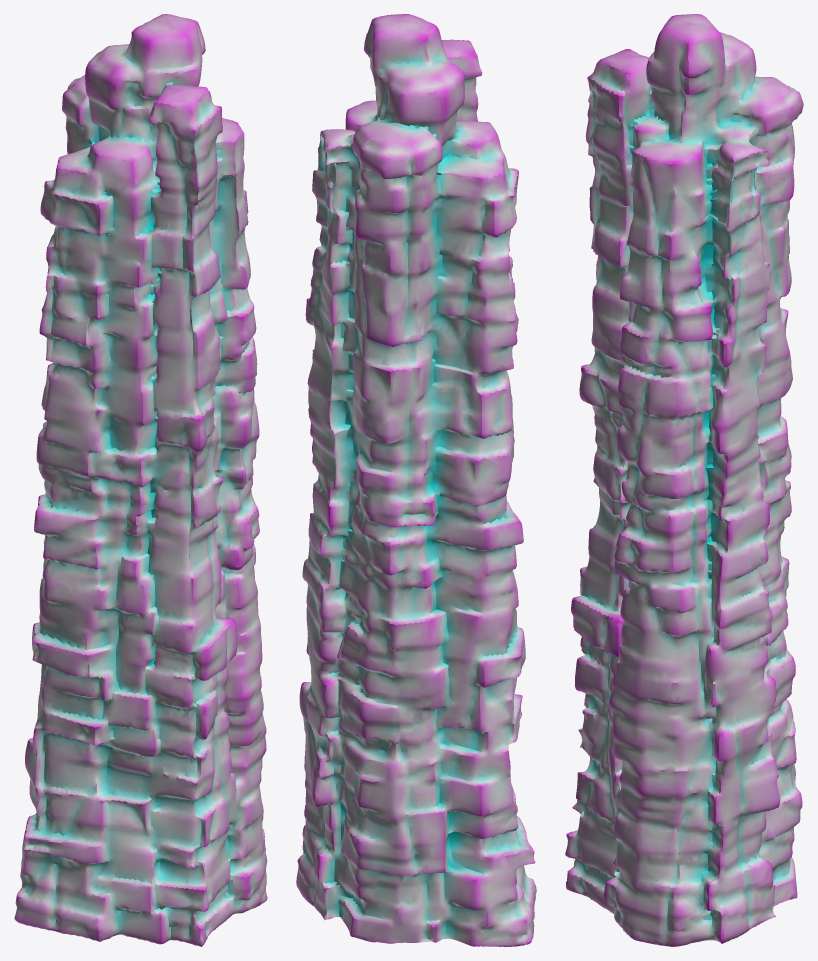
The model's file is Macico_1.fbx.
3 views of the same model, side by side, from view 1: azimuth 30°, elevation 25°; view 2: azimuth 150°, elevation 25°; view 3: azimuth 270°, elevation 25° (orthographic).
Parts seen in each view (by area): view 1: Macico_1; view 2: Macico_1; view 3: Macico_1.
Boxes of the visible parts, left/top/right/bottom form: Macico_1: left=14, top=14, right=267, bottom=946; Macico_1: left=296, top=14, right=536, bottom=946; Macico_1: left=565, top=14, right=803, bottom=946.
Bounding box in the file's own units: 110 × 399 × 97.61.
